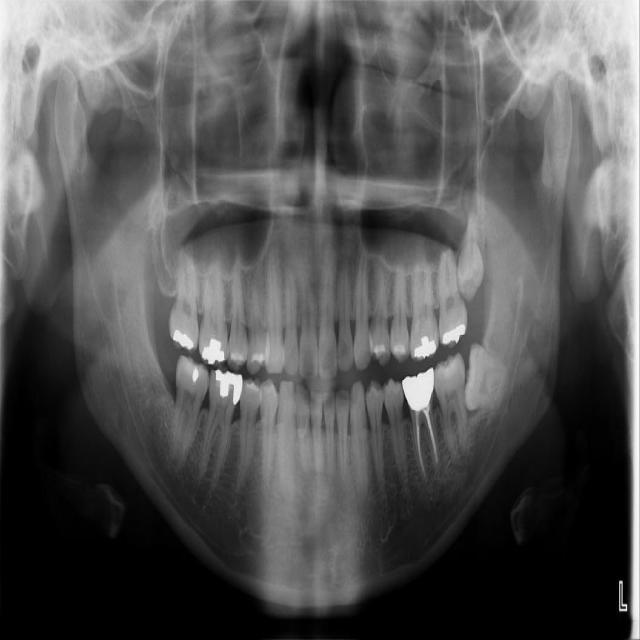52: (164, 352, 217, 408), (399, 367, 445, 417), (202, 367, 245, 418), (168, 295, 200, 356), (197, 313, 230, 370), (437, 296, 469, 349), (409, 316, 440, 362), (245, 328, 271, 375), (224, 326, 250, 373), (369, 323, 391, 367), (390, 322, 411, 363)
73: (410, 406, 441, 479), (590, 570, 594, 579)
BioHorizons Implant: (437, 223, 468, 348)
BioLife Implant: (456, 240, 485, 303)
Biomet 3i Implant: (459, 342, 514, 417)
Blue Sky Bio Implant: (432, 352, 469, 466)
Caries: (165, 237, 200, 355)
Implant: (170, 354, 211, 466)
